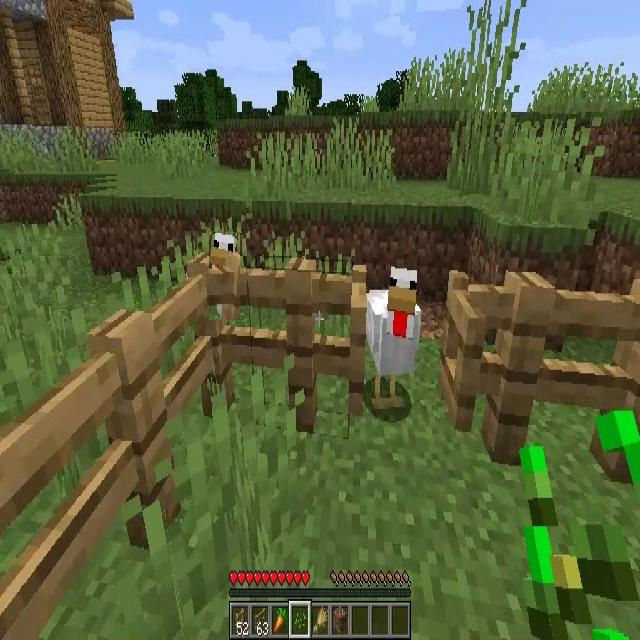duck: (365, 267, 420, 411), (209, 232, 240, 320)
